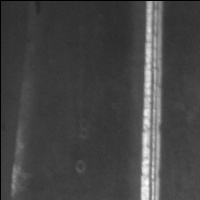scratches: (138, 1, 169, 200), (9, 108, 27, 198)
